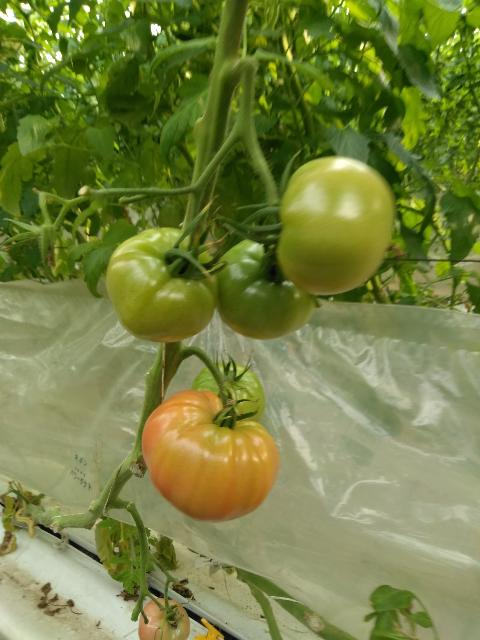b_green: (275, 156, 395, 295), (106, 227, 219, 344), (216, 233, 316, 340), (191, 362, 266, 423)
b_half_ripened: (141, 389, 280, 523), (138, 598, 190, 640)
